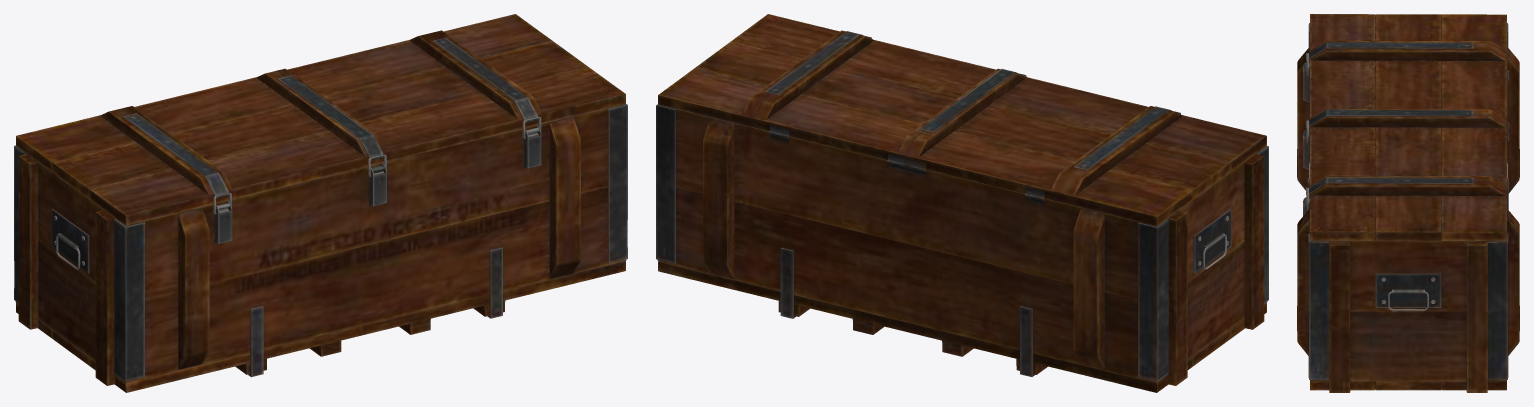
Rendered from mil_crate_b.glb.
3 renders of one model, left to right at view 1: azimuth 30°, elevation 25°; view 2: azimuth 150°, elevation 25°; view 3: azimuth 270°, elevation 25°, orthographic. The views are drawn at different scales.
Visible parts, largest first — view 1: wooden_military_crate; view 2: wooden_military_crate; view 3: wooden_military_crate.
Boxes of the visible parts, x1,y1,x2,y2 form: wooden_military_crate: (14,14,627,392); wooden_military_crate: (656,14,1268,392); wooden_military_crate: (1297,14,1519,392).
Bounding box in the file's own units: 1.24 × 0.4645 × 0.5185.
1 material, 1 textured.
